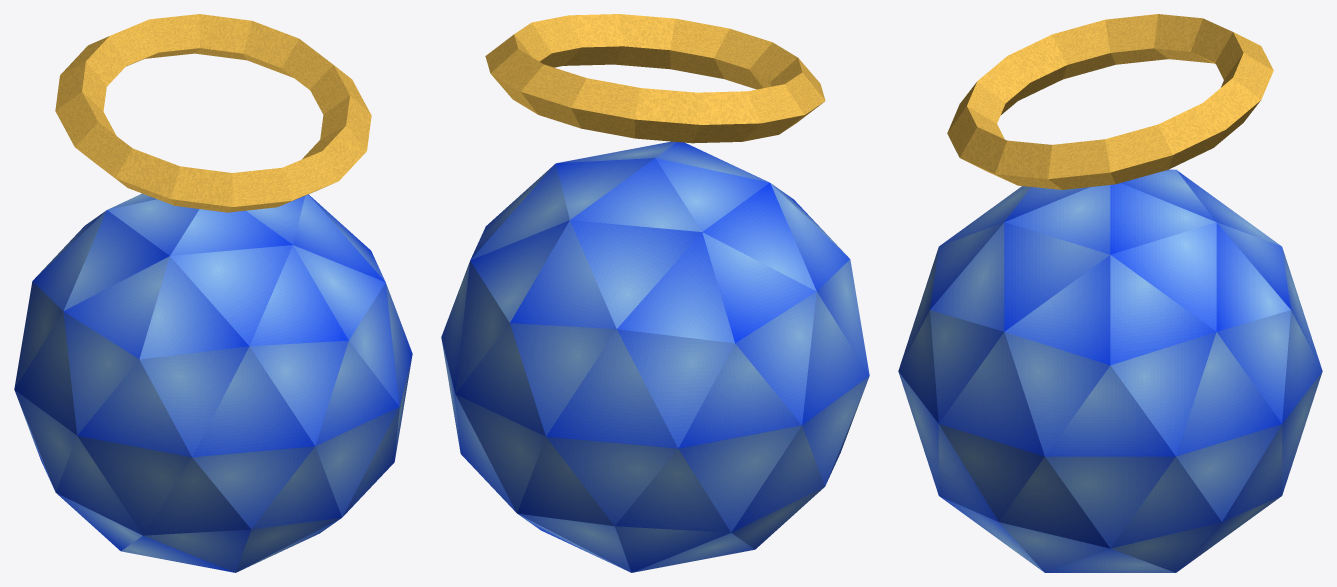
The model's file is PickupFaith.glb.
3 views of the same model, side by side, from view 1: azimuth 30°, elevation 25°; view 2: azimuth 150°, elevation 25°; view 3: azimuth 270°, elevation 25° (orthographic). The views are drawn at different scales.
Parts seen in each view (by area): view 1: PickupFaith; view 2: PickupFaith; view 3: PickupFaith.
Boxes of the visible parts, x1,y1,x2,y2 form: PickupFaith: [14, 14, 412, 572]; PickupFaith: [441, 14, 869, 572]; PickupFaith: [898, 14, 1322, 572].
Bounding box in the file's own units: 0.2853 × 0.3984 × 0.3.
1 material, 1 textured.
